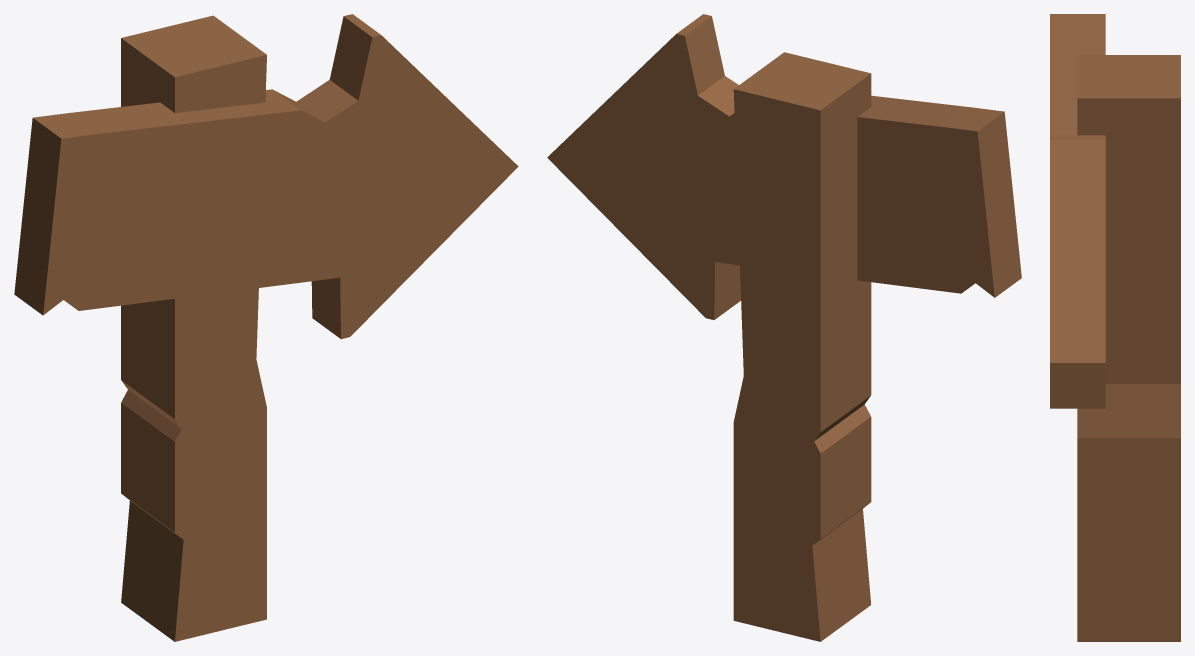
Rendered from sign_right.glb.
The picture shows the model from 3 angles, left to right: view 1: azimuth 30°, elevation 25°; view 2: azimuth 150°, elevation 25°; view 3: azimuth 270°, elevation 25°; orthographic projection. The views are drawn at different scales.
Parts seen in each view (by area): view 1: Sign_Right; view 2: Sign_Right; view 3: Sign_Right.
Boxes of the visible parts, <box> form: Sign_Right: <box>14,14,518,641</box>; Sign_Right: <box>547,14,1021,641</box>; Sign_Right: <box>1050,14,1180,641</box>.
Size of the model in its own units: 1.11 by 1.27 by 0.2746.
